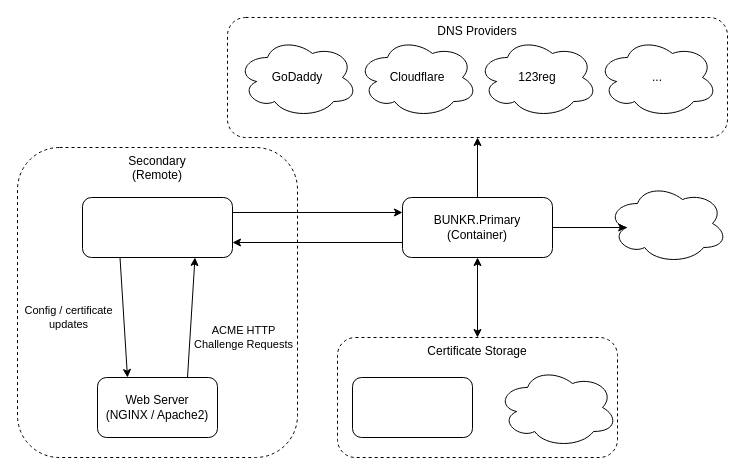
This 745x475 diagram has some shape labels left out. The shapes that lost their labels are listed below. From the top down, each one's centre as x and y in pixels, then its label:
the point at 157,227: BUNKR.Secondary (Container)
the point at 667,223: Let's Encrypt ACME Server
the point at 412,407: Local File Storage
the point at 557,407: Cloud Object Storage
